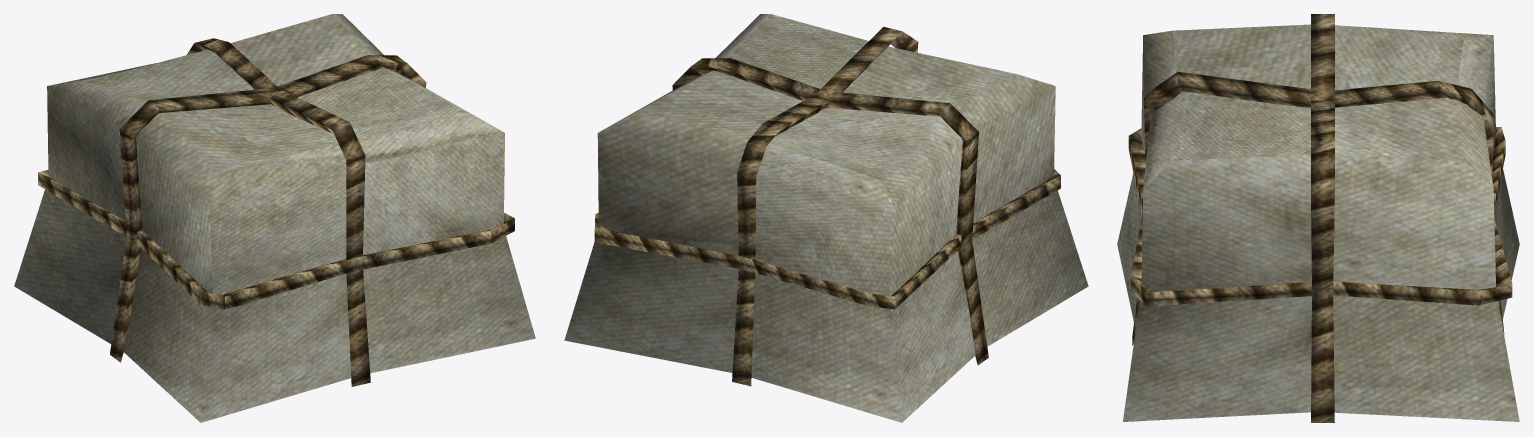
Rendered from package02.fbx.
3 views of the same model, side by side, from view 1: azimuth 30°, elevation 25°; view 2: azimuth 150°, elevation 25°; view 3: azimuth 270°, elevation 25° (orthographic). The views are drawn at different scales.
Visible parts, largest first — view 1: package02; view 2: package02; view 3: package02.
Boxes of the visible parts, <box> form: package02: <box>14,14,535,422</box>; package02: <box>564,14,1088,422</box>; package02: <box>1117,14,1519,422</box>.
Size of the model in its own units: 0.6099 by 0.4227 by 0.5836.
